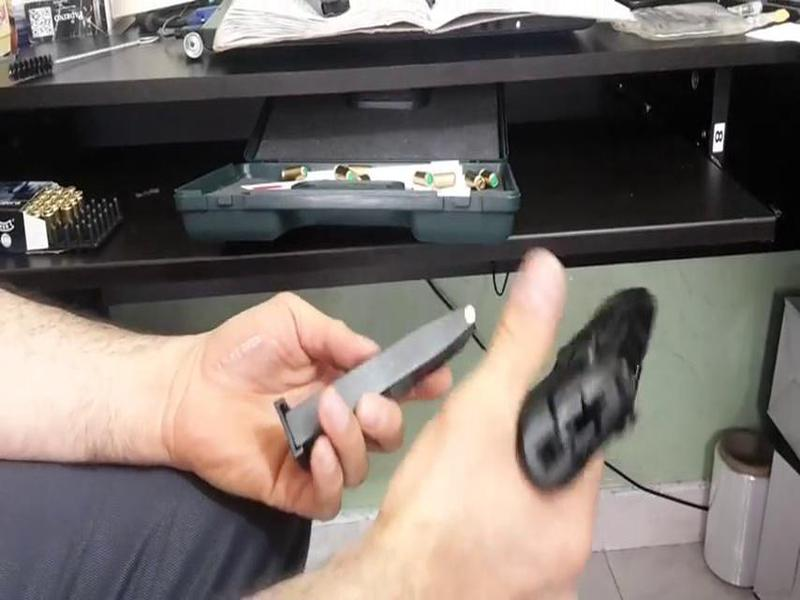Pistola: (517, 263, 657, 510)
